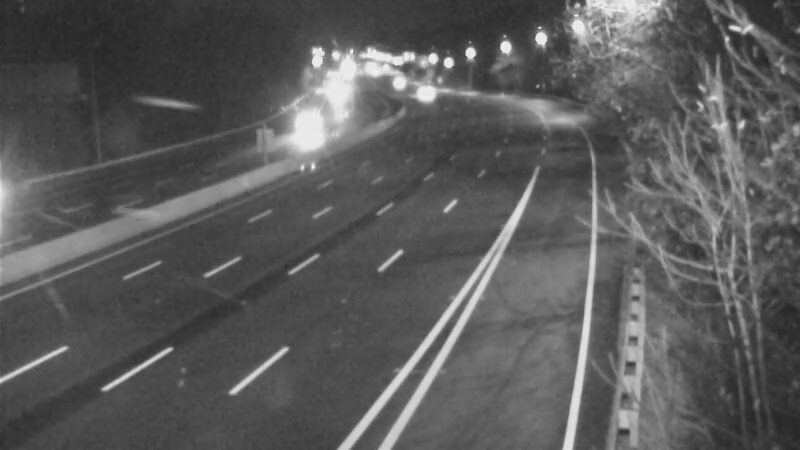vehicle: (373, 53, 423, 103), (402, 69, 452, 119), (281, 97, 331, 147), (313, 71, 363, 121)
